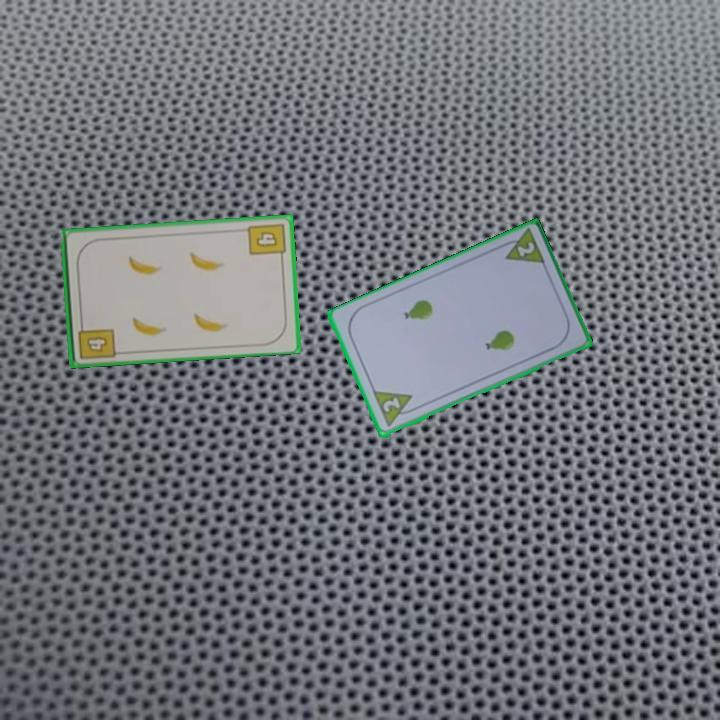2p: (369, 387, 420, 431), (496, 226, 548, 269)
4b: (244, 219, 288, 263), (74, 318, 118, 362)
